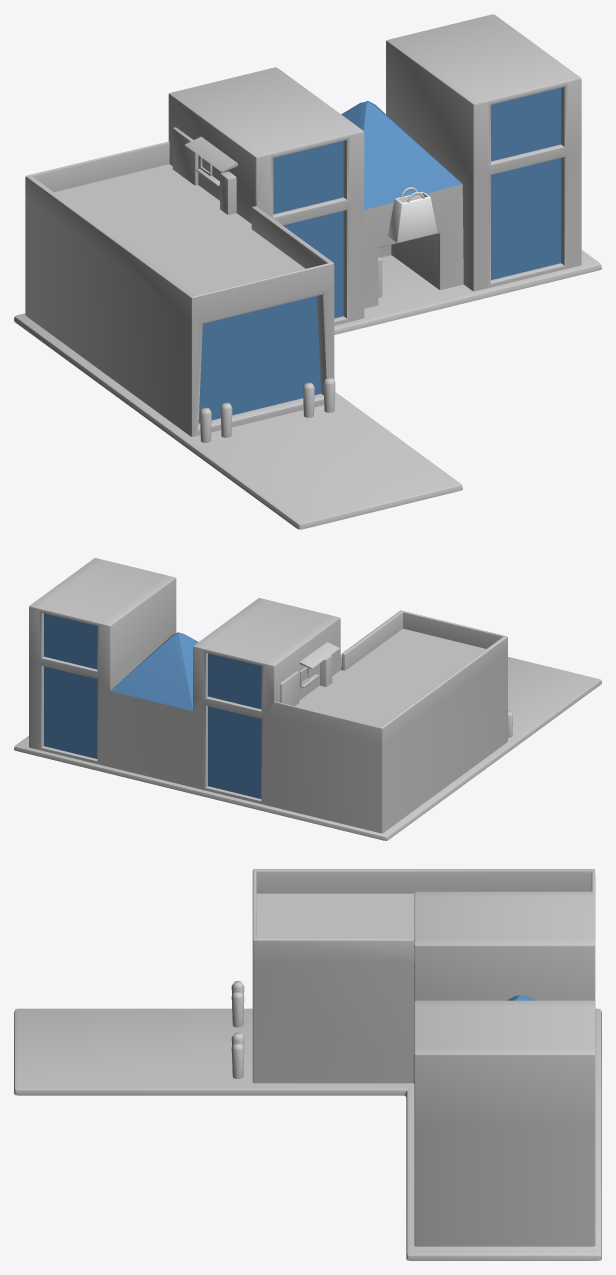
Rendered from centrocomercial.fbx.
The picture shows the model from 3 angles, top to bottom: view 1: azimuth 30°, elevation 25°; view 2: azimuth 150°, elevation 25°; view 3: azimuth 270°, elevation 25°; orthographic projection. The views are drawn at different scales.
Parts seen in each view (by area): view 1: edificio, ventanas001, suelo, Box006; view 2: edificio, ventanas001, suelo; view 3: edificio, suelo.
Boxes of the visible parts, x1,y1,x2,y2 form: edificio: [25, 14, 581, 436]; ventanas001: [198, 88, 560, 423]; suelo: [14, 127, 601, 529]; Box006: [388, 192, 437, 242]; edificio: [29, 558, 507, 833]; ventanas001: [44, 613, 261, 798]; suelo: [14, 642, 601, 840]; edificio: [252, 869, 595, 1246]; suelo: [14, 981, 601, 1260].
Bounding box in the file's own units: 300 × 112 × 300.
